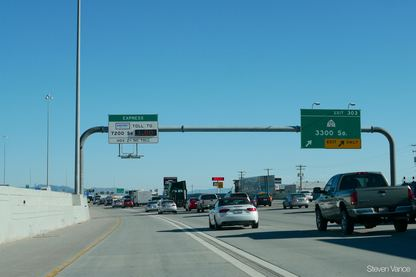car: (212, 195, 266, 231), (282, 192, 309, 209), (225, 192, 251, 205), (251, 192, 273, 207), (297, 189, 313, 202)
truck: (307, 169, 414, 238), (167, 184, 193, 208), (132, 190, 155, 210)
